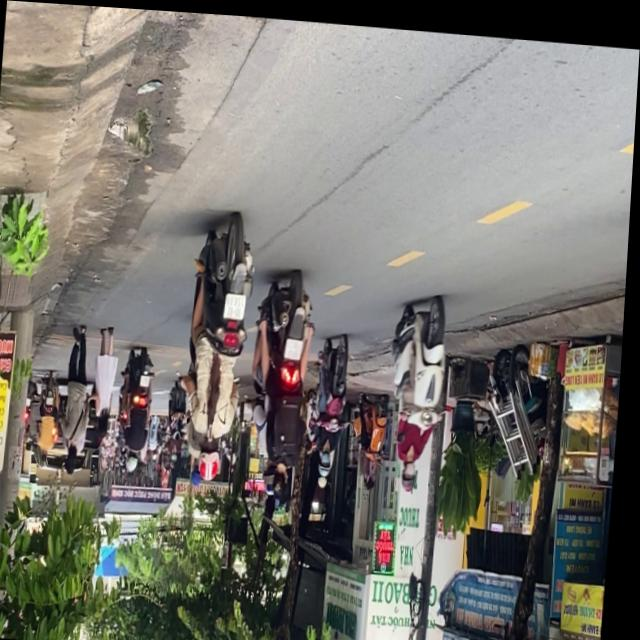helmet: (203, 435, 228, 478), (405, 454, 424, 488), (267, 459, 286, 492), (322, 446, 338, 475)
licenseplate: (179, 209, 261, 486), (246, 264, 323, 496), (384, 285, 457, 492), (311, 328, 359, 477)
motorcyclist: (277, 460, 294, 493)
nohelmet: (226, 289, 249, 316), (288, 333, 307, 355)
